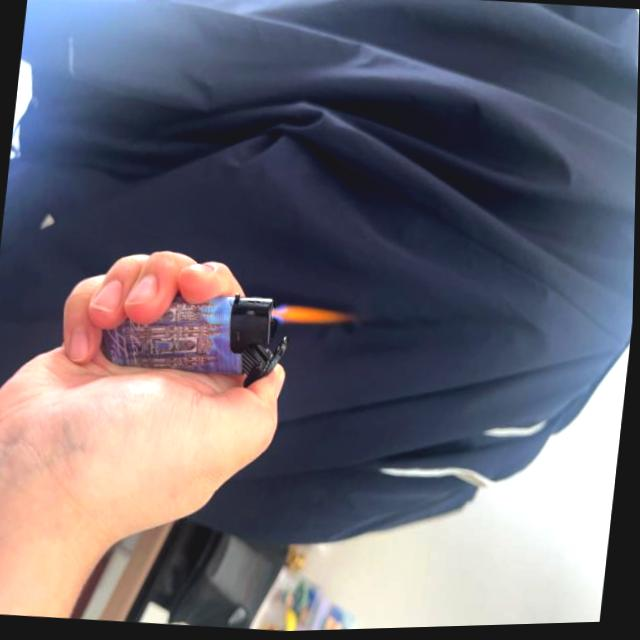Fire: (274, 299, 351, 333)
